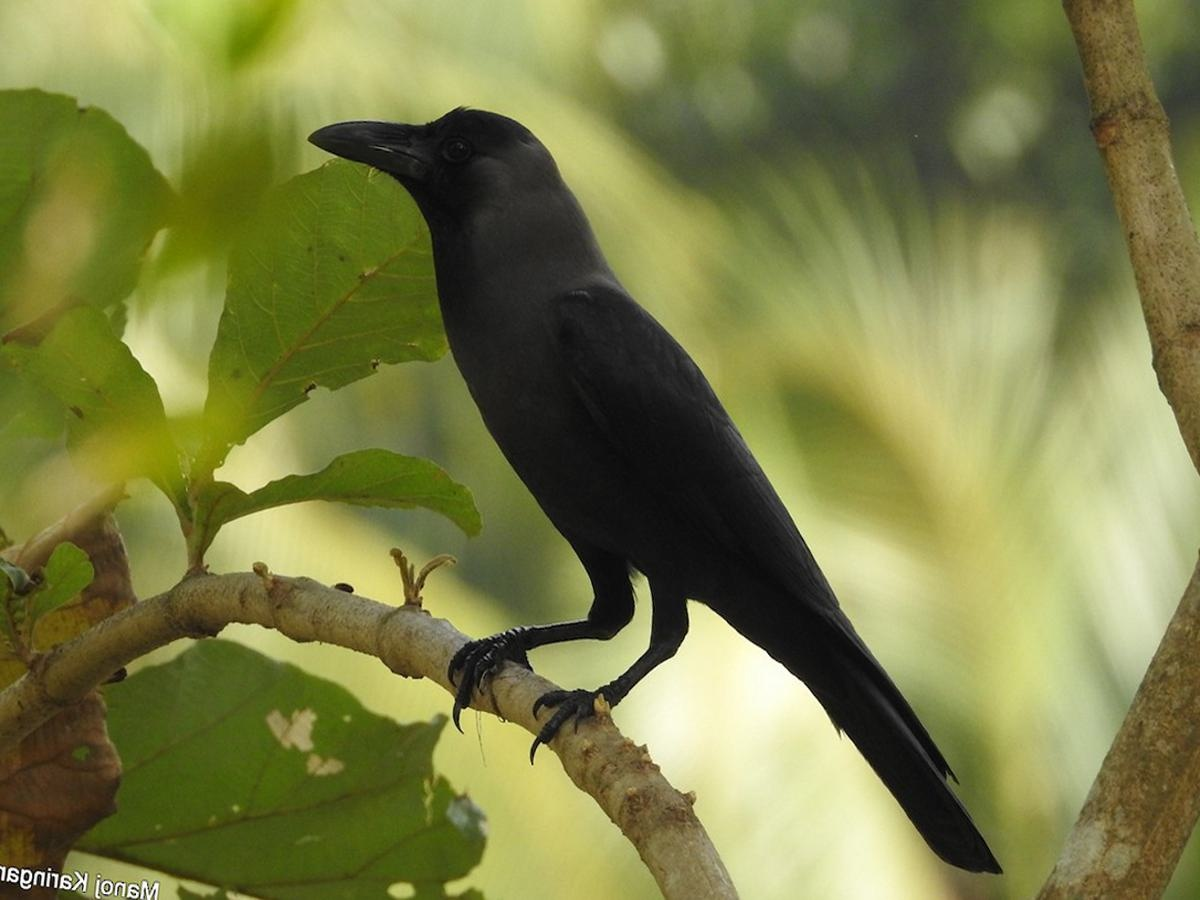crow: (308, 86, 1030, 882)
